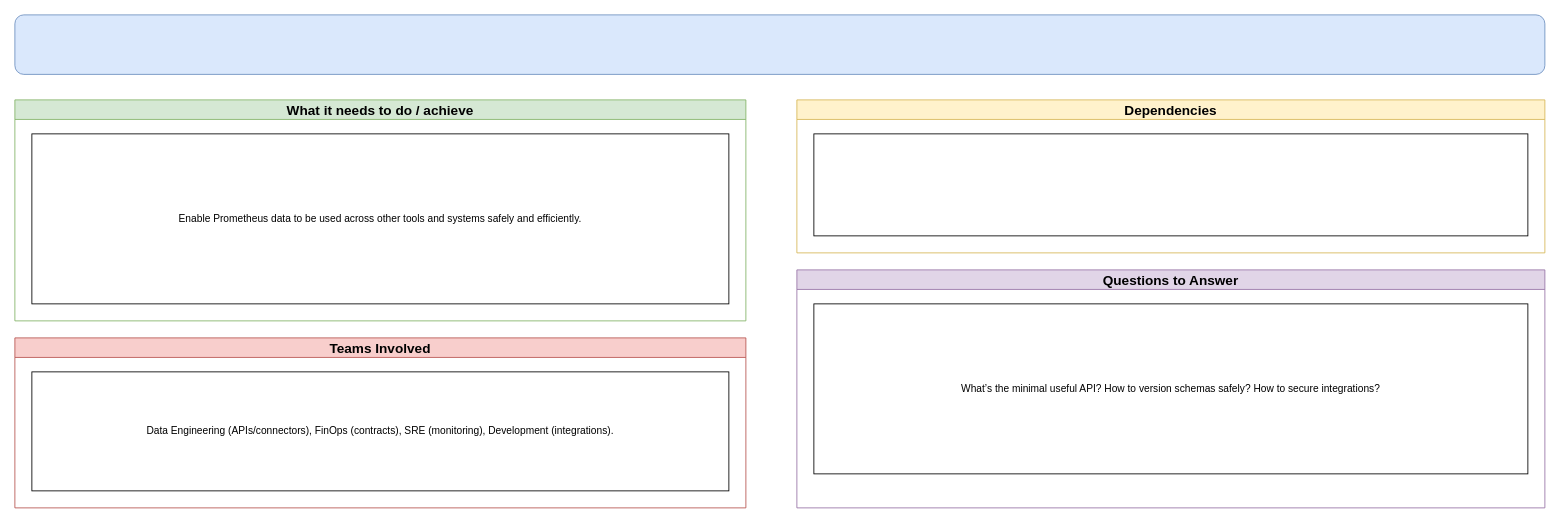
Image size: 1560x523. Some labels were removed from this diagram. Each missing label, with the centre of its shape:
"API gateway, data warehouse/BI tools, authentication system." belongs at (1170,184).
"Integration & Extensibility – Detailed" belongs at (779,44).
